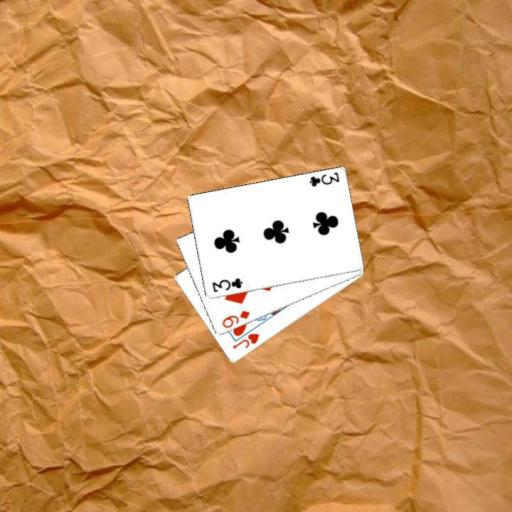3C: (208, 275, 244, 294), (306, 170, 341, 189)
9D: (218, 307, 251, 330)
JH: (229, 330, 260, 351)
